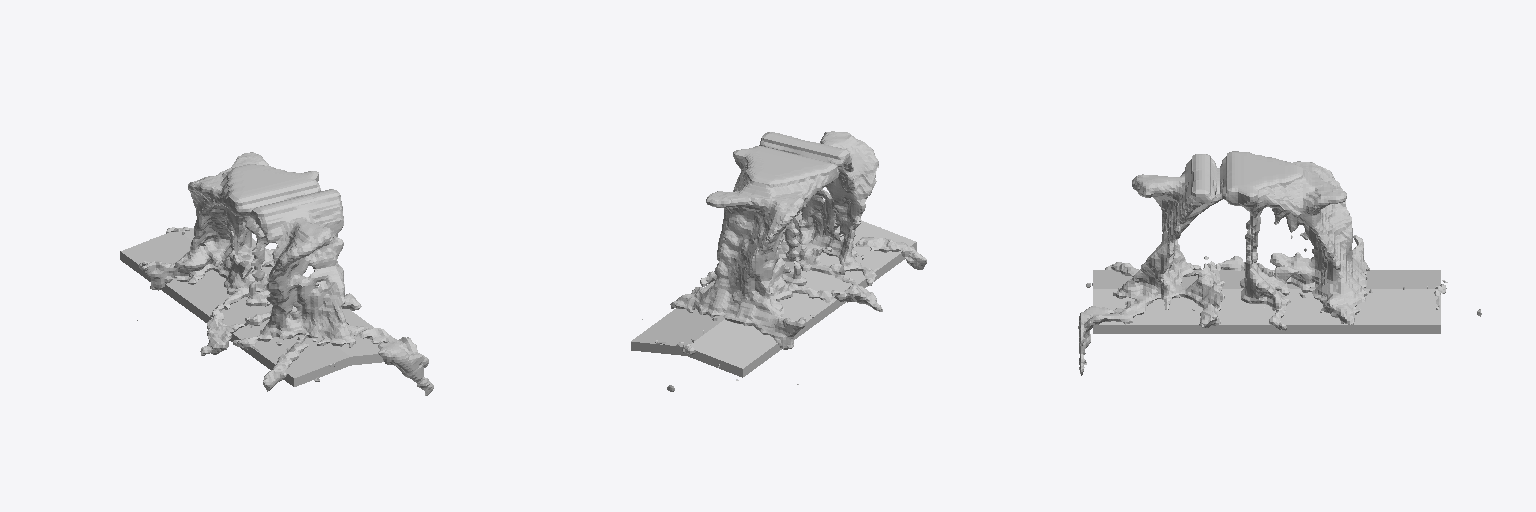
The model's file is Watersim_000031.obj.
3 renders of one model, left to right at view 1: azimuth 30°, elevation 25°; view 2: azimuth 150°, elevation 25°; view 3: azimuth 270°, elevation 25°, orthographic.
Visible parts, largest first — view 1: Domain_Cube.006, Straße_Cube.007; view 2: Domain_Cube.006, Straße_Cube.007; view 3: Domain_Cube.006, Straße_Cube.007.
Boxes of the visible parts, x1,y1,x2,y2 form: Domain_Cube.006: [137, 152, 433, 395]; Straße_Cube.007: [120, 228, 383, 386]; Domain_Cube.006: [642, 131, 926, 391]; Straße_Cube.007: [631, 221, 916, 377]; Domain_Cube.006: [1078, 151, 1481, 375]; Straße_Cube.007: [1093, 270, 1440, 333].
Size of the model in its own units: 3.42 by 3.27 by 7.03.